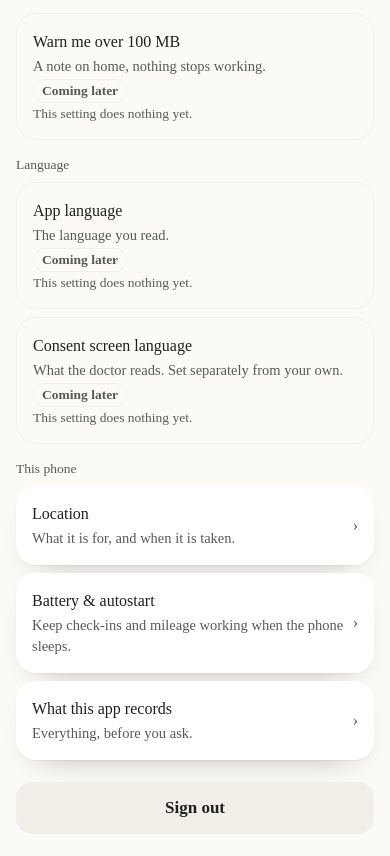
app/(tabs)/me.tsx — sign out is never a silent tap › says the MR is STILL SIGNED IN when it did not go through
The width and height of the screenshot is (390, 856).
(page scrolled)
Click the button "Sign out" at {"x": 195, "y": 808}, box left=16, top=782, right=374, bottom=834
(page scrolled)
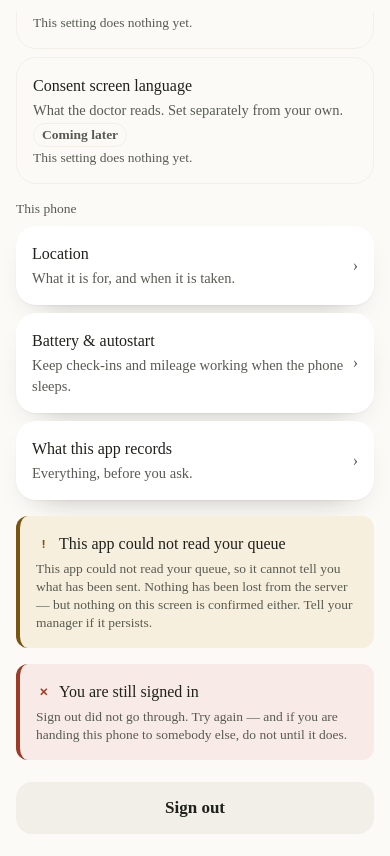
Now the text "You are still signed in" is shown, box left=59, top=683, right=199, bottom=700
Now the text "do not until it does" is shown, box left=36, top=709, right=347, bottom=742
